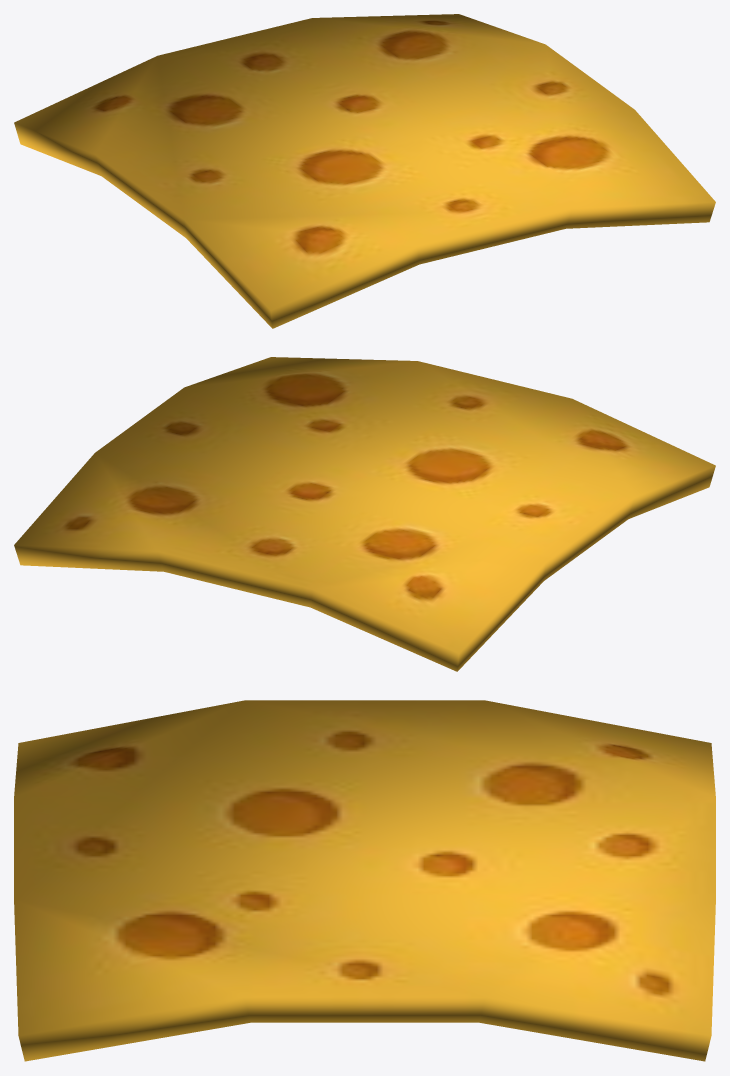
The model's file is CheeseSlice.glb.
3 views of the same model, one above another, from view 1: azimuth 30°, elevation 25°; view 2: azimuth 150°, elevation 25°; view 3: azimuth 270°, elevation 25° (orthographic). The views are drawn at different scales.
Visible parts, largest first — view 1: CheeseSlice; view 2: CheeseSlice; view 3: CheeseSlice.
Part boxes in pixels (bbox=[...]): CheeseSlice: bbox=[14, 14, 715, 328]; CheeseSlice: bbox=[14, 357, 715, 671]; CheeseSlice: bbox=[14, 700, 715, 1061].
Bounding box in the file's own units: 0.4344 × 0.0471 × 0.4344.
Materials: 1 (1 with a texture image).
